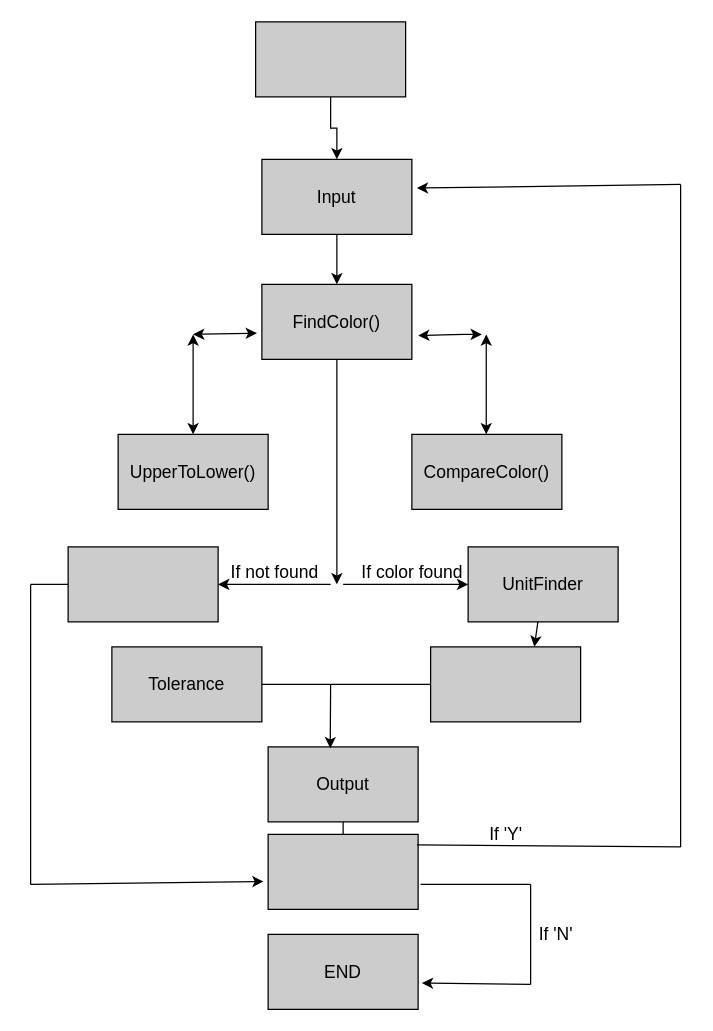
Image size: 713x1031. Some labels were removed from this diagram. Here are the shapes that lost their labels. From the top down, the centre of each, then its label:
point 330,59: START
point 142,584: Throw Error
point 505,684: Resistance
point 342,871: Ask to start all over again
